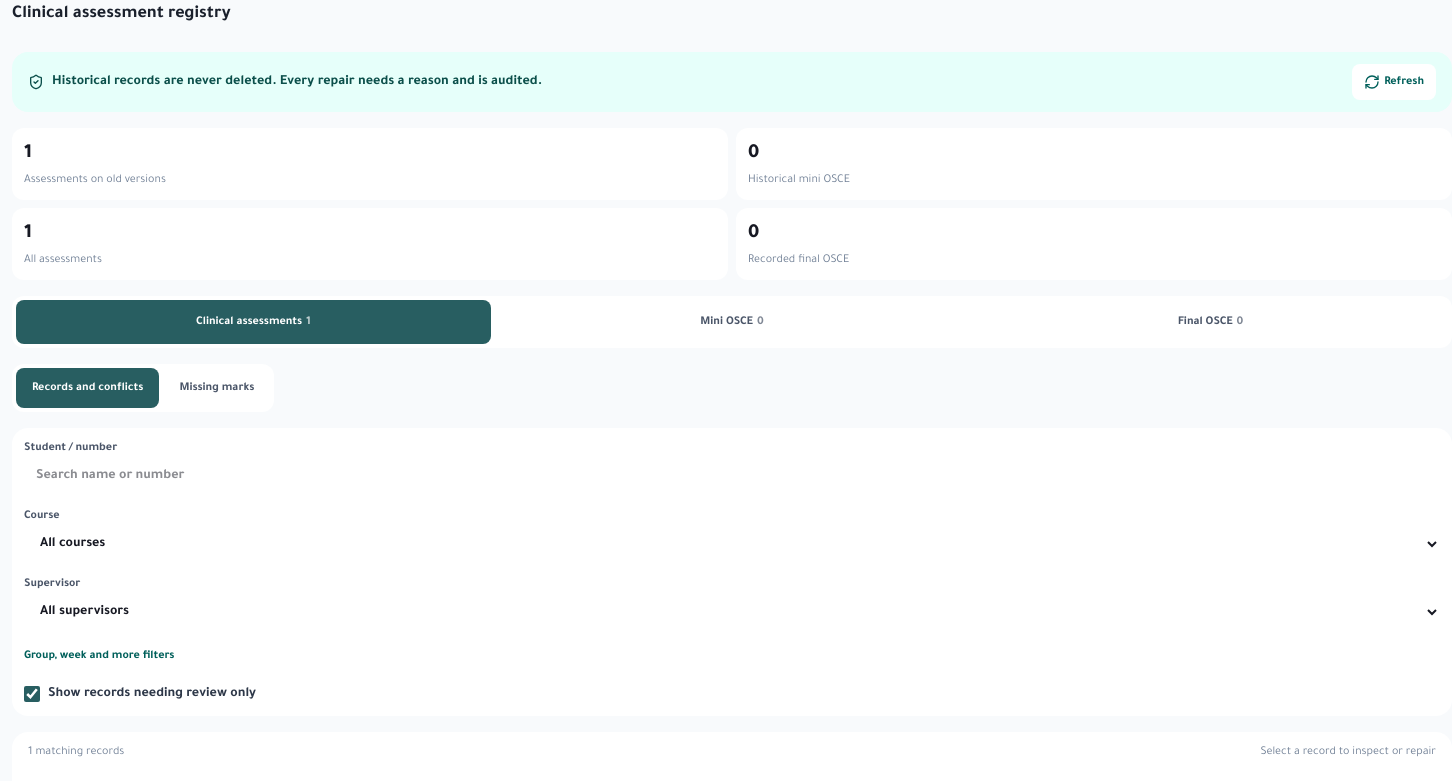
Test case: admin clinical assessment registry › shows missing marks separately from the record list
Check: the text "Assessments on old versions" is shown, box [24, 174, 166, 186]
Click the button "Missing marks" at {"x": 217, "y": 388}, box [163, 368, 270, 408]
(page scrolled)
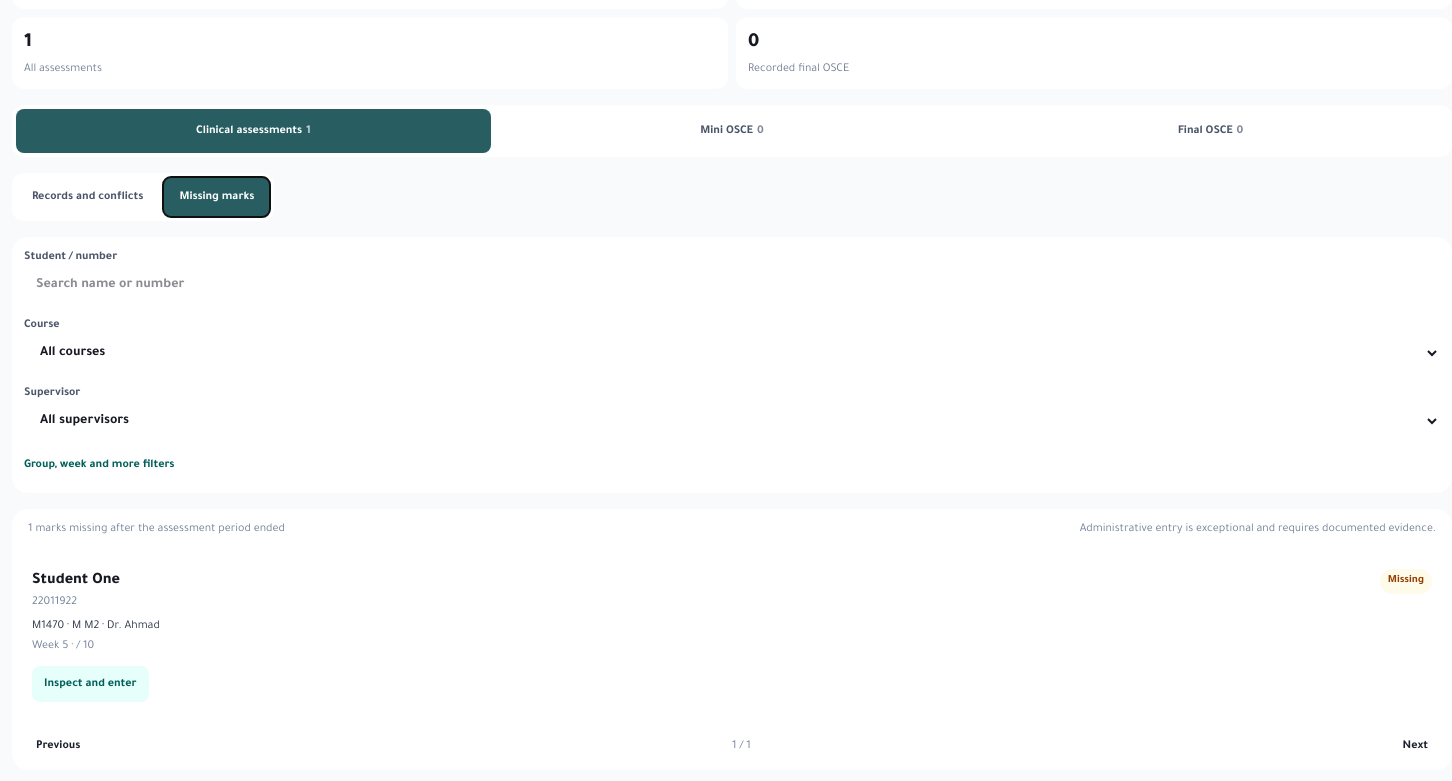
Check: the text "1 marks missing after the assessment period ended" is shown, box [28, 521, 285, 537]
Check: the button "Inspect and enter" is shown, box [32, 666, 148, 702]
